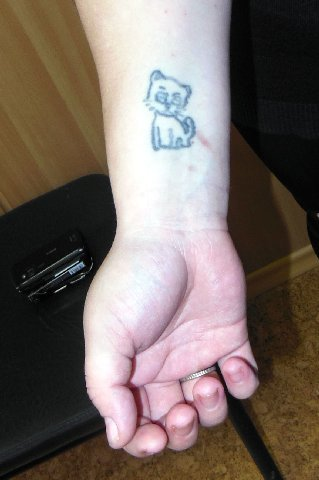tatu8_kot: (142, 69, 202, 153)
